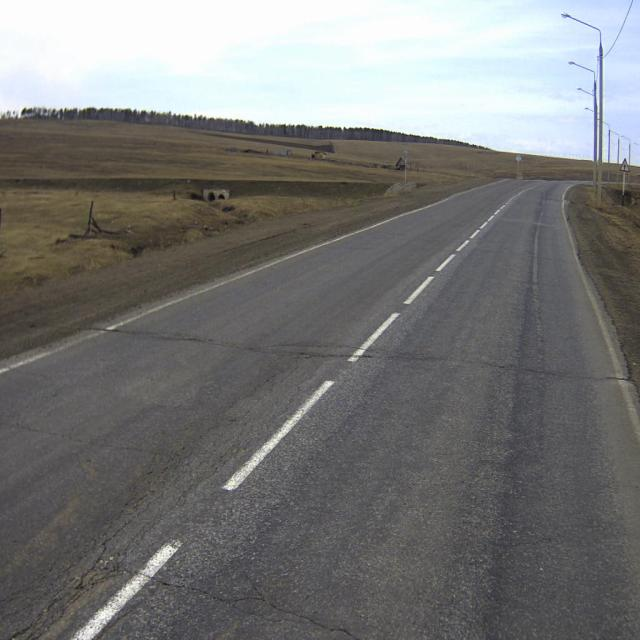road: (0, 181, 640, 639)
